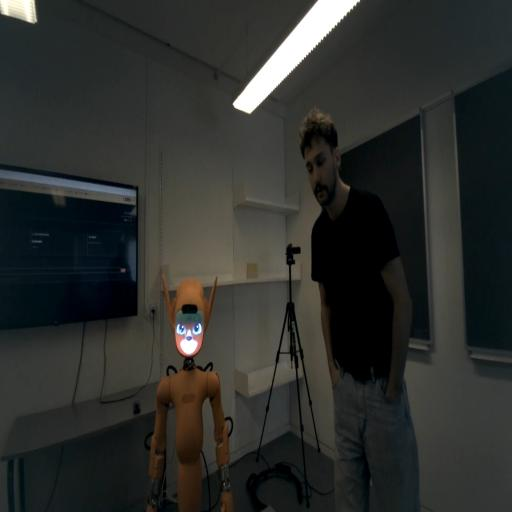Robot: (163, 273, 218, 359)
TV: (0, 177, 135, 323)
